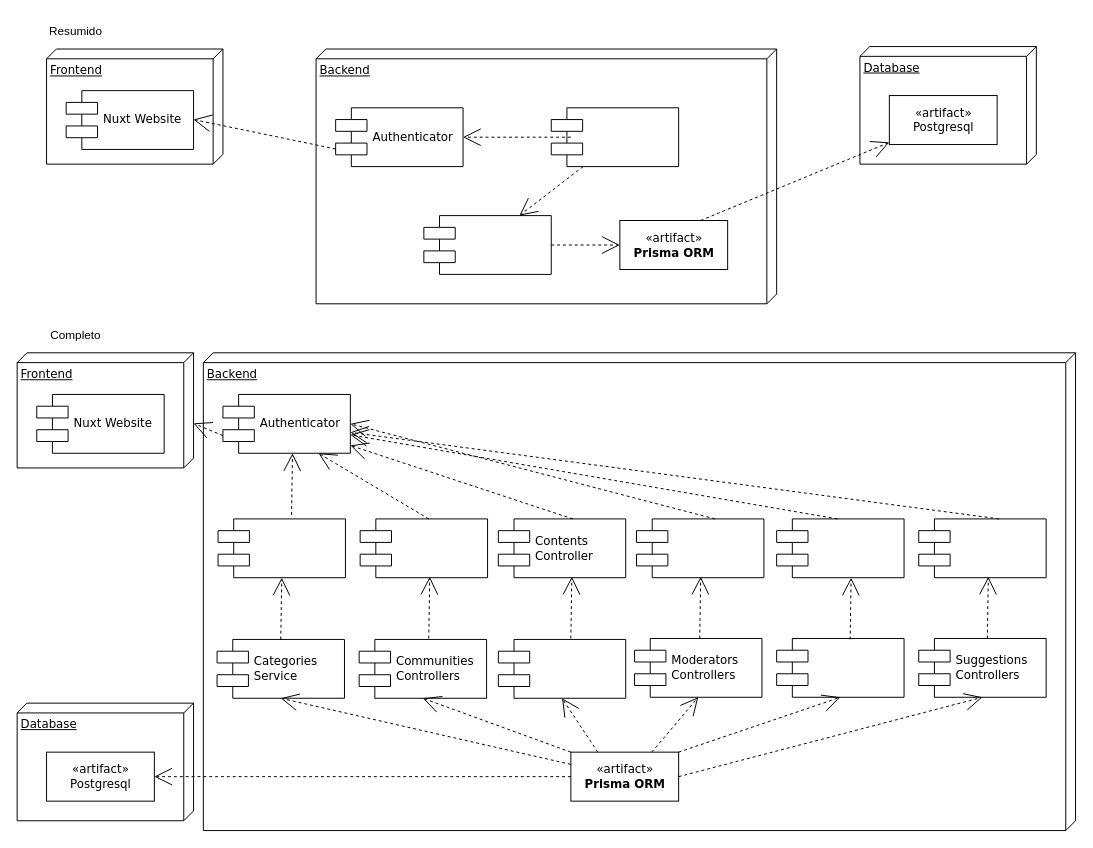
Image size: 1093x848. Some labels were removed from this diagram. The shapes that lost their labels are listed below. From the top down, each one's centre as x and y in pixels, then its label:
At point 614,137: "Controllers".
At point 487,244: "Services".
At point 281,548: "Categories Controller".
At point 423,548: "Communities Controller".
At point 700,548: "Moderators Controller".
At point 840,548: "Users Controller".
At point 982,548: "Suggestions Controller".
At point 561,668: "Contents Controllers".
At point 840,667: "Users Controllers".
